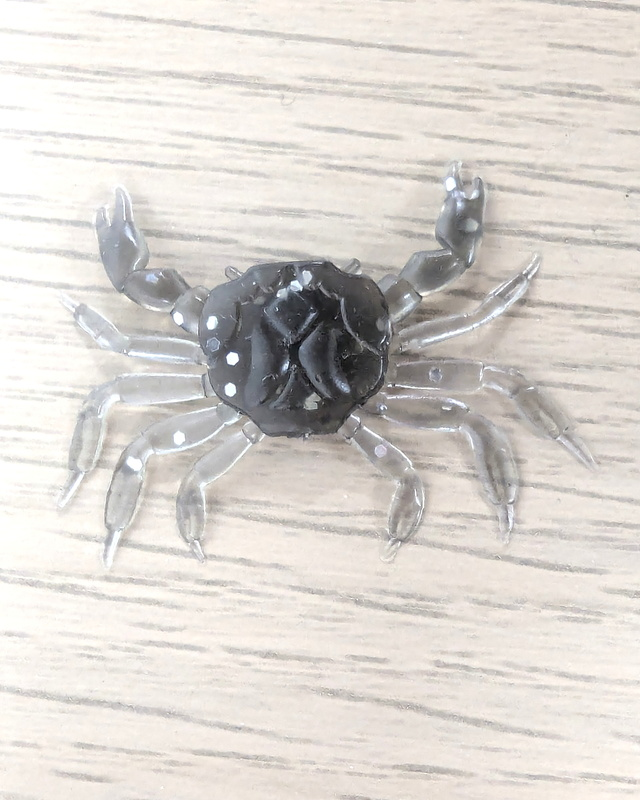crab1: (48, 155, 608, 575)
